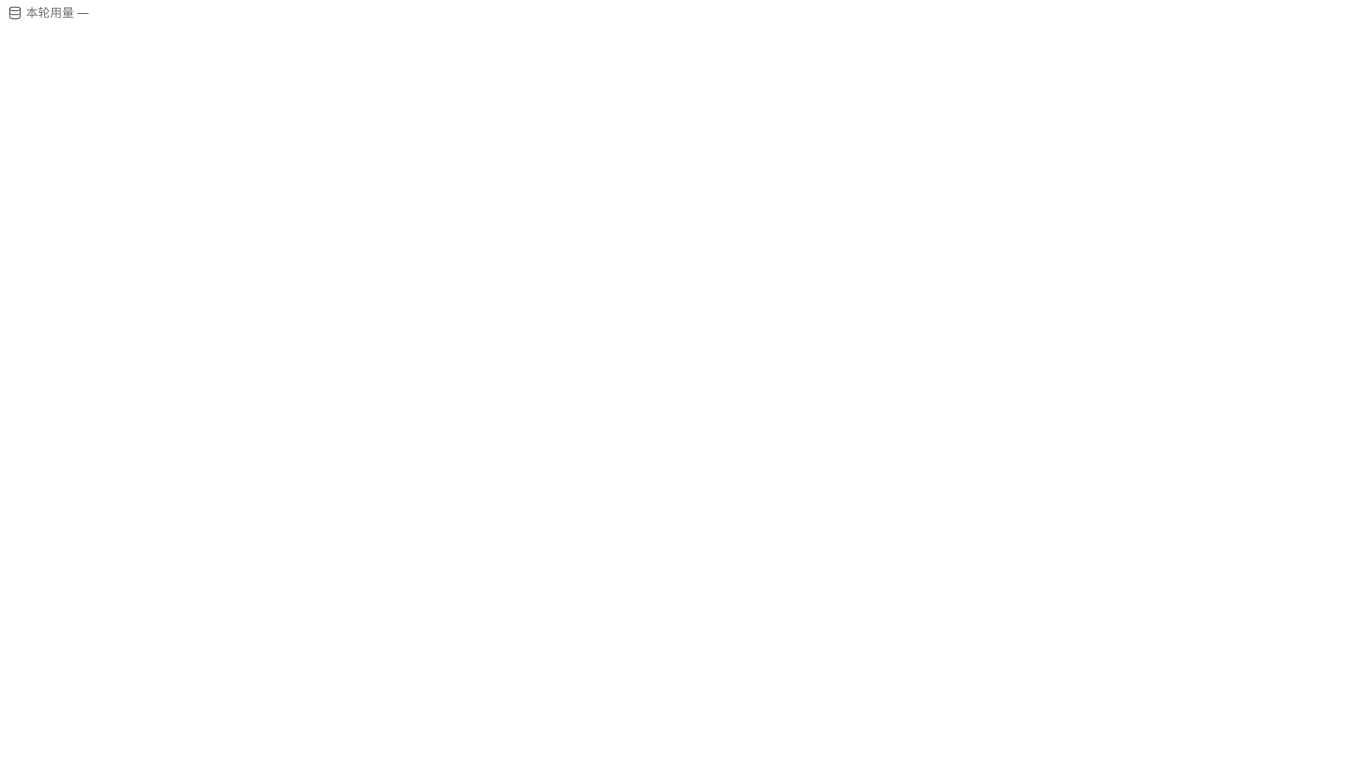
Test: 单轮 Token 用量 › 上游没给用量时如实说明，不编造数字
Click the button "本轮用量 —". click: [49, 13]
box: [0,0,97,26]
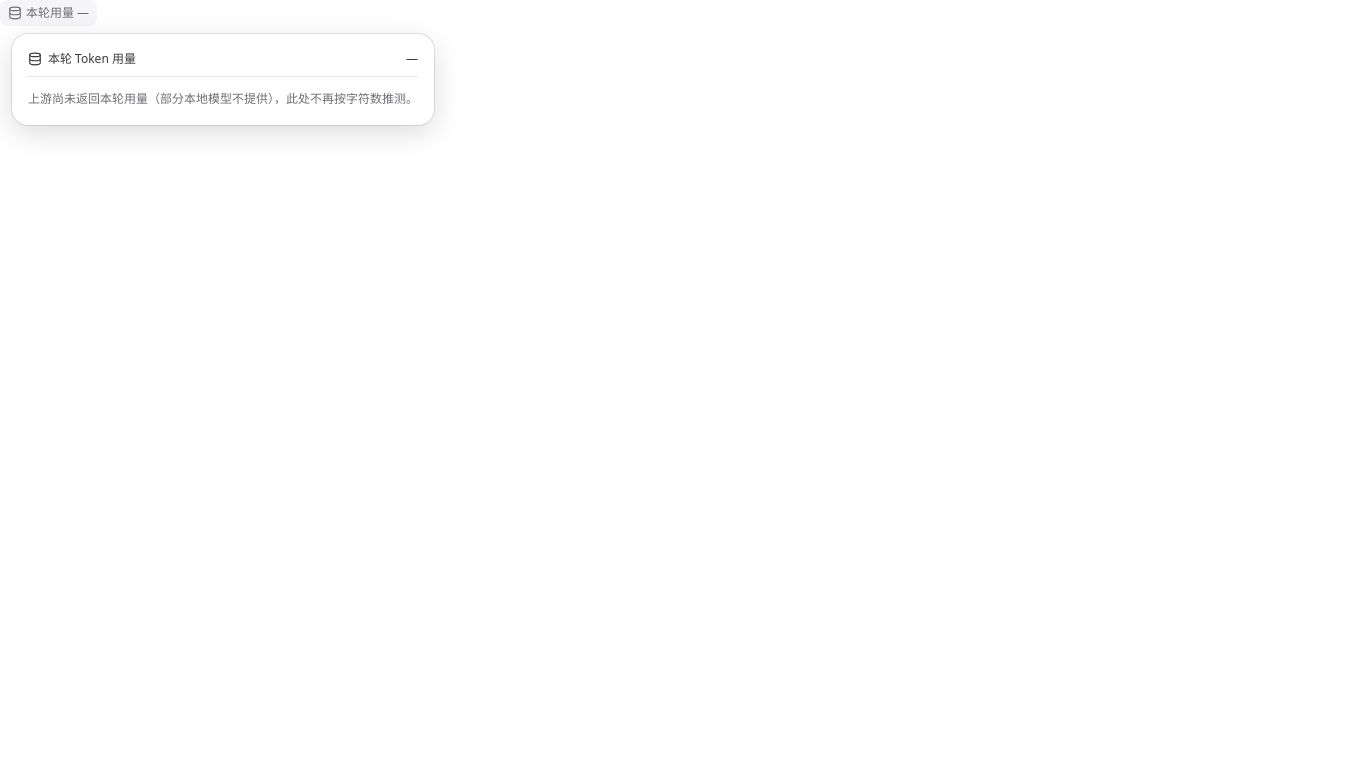
Result: the dialog shows "尚未返回本轮用量" at [28,90,418,107]
